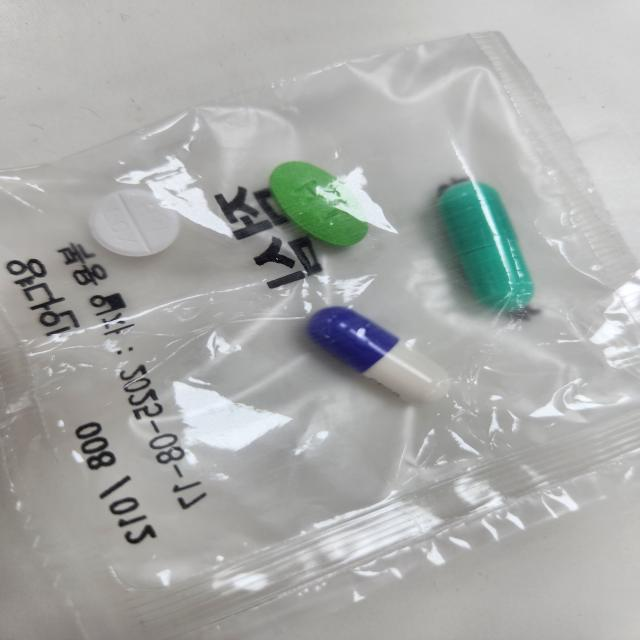러키펜정: (85, 188, 178, 262)
씨엠지세파클러캡슐: (304, 308, 452, 407)
에르도캡슐: (434, 178, 536, 315)
휴티렌정: (269, 161, 369, 248)
